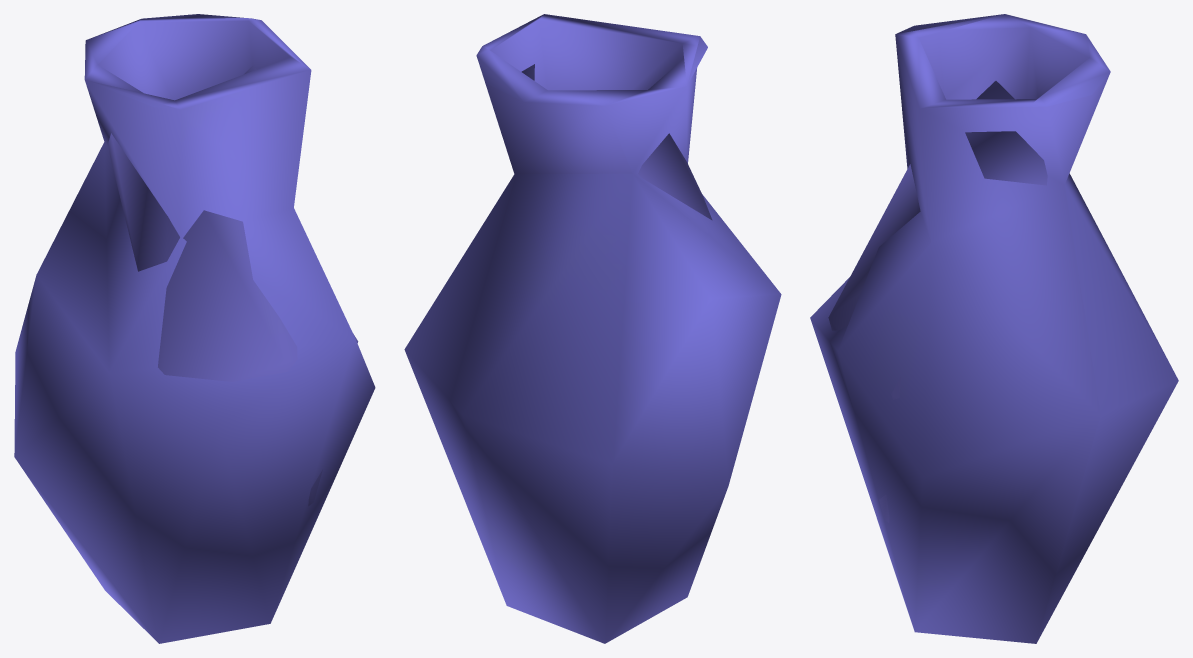
Rendered from model.progressive.glb.
3 views of the same model, side by side, from view 1: azimuth 30°, elevation 25°; view 2: azimuth 150°, elevation 25°; view 3: azimuth 270°, elevation 25° (orthographic).
Visible parts, largest first — view 1: material; view 2: material; view 3: material.
Part boxes in pixels (x1=…): material: x1=14, y1=14, x2=375, y2=643; material: x1=404, y1=14, x2=781, y2=643; material: x1=810, y1=14, x2=1178, y2=643.
Bounding box in the file's own units: 1.1 × 1.9 × 1.14.
1 material, 1 textured.
